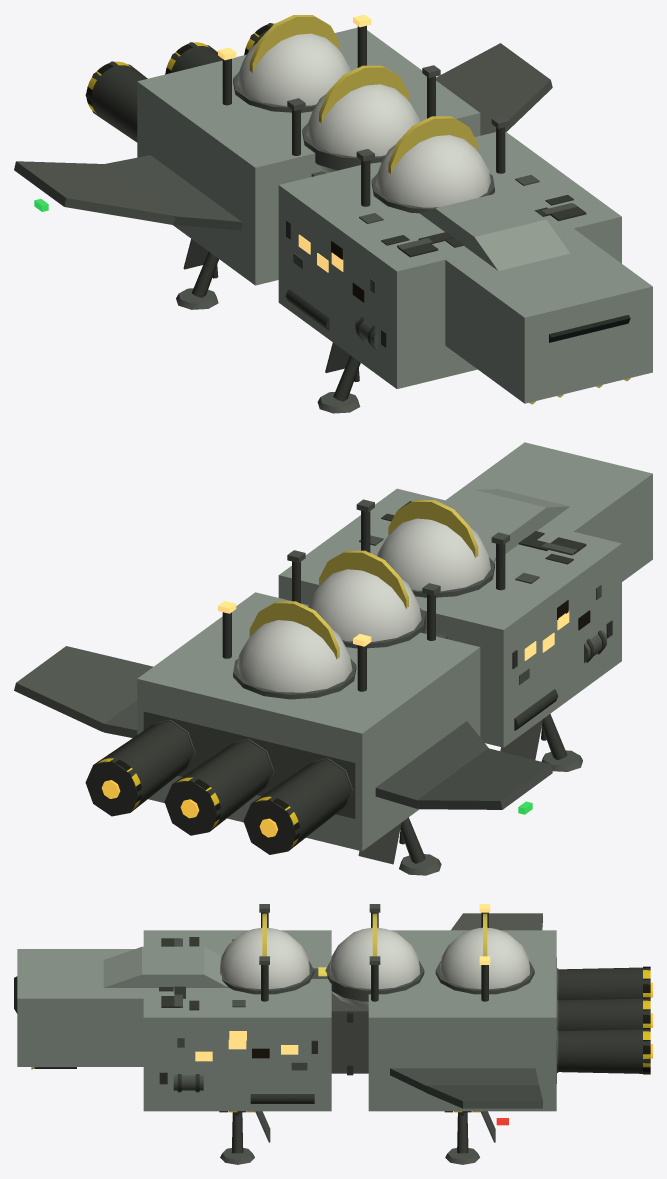
The model's file is h2_freighter-m.glb.
3 views of the same model, one above another, from view 1: azimuth 30°, elevation 25°; view 2: azimuth 150°, elevation 25°; view 3: azimuth 270°, elevation 25° (orthographic). The views are drawn at different scales.
Visible parts, largest first — view 1: hullMain, hullNose, hullSection1, canopyFairing, pressureTank0, pressureTank1, pressureTank2, wingOuterRight, wingOuterLeft, wingInnerLeft, engineHousing (×2), tankBand0 (+9 smaller); view 2: hullSection1, hullMain, engineHousing (×3), hullNose, wingOuterRight, pressureTank2, pressureTank0, pressureTank1, wingOuterLeft, canopyFairing, engineBayExtension, wingInnerLeft (+8 smaller); view 3: hullMain, hullSection1, hullNose, engineHousing (×3), canopyFairing, pressureTank1, pressureTank2, pressureTank0, gantry0, wingInnerRight, wingOuterRight, wingOuterLeft (+7 smaller).
Boxes of the visible parts, <box> form: hullMain: <box>278,131,621,388</box>; hullNose: <box>438,228,652,403</box>; hullSection1: <box>137,27,480,285</box>; canopyFairing: <box>420,191,569,270</box>; pressureTank0: <box>375,135,490,207</box>; pressureTank1: <box>306,84,419,172</box>; pressureTank2: <box>237,33,350,106</box>; wingOuterRight: <box>436,43,552,135</box>; wingOuterLeft: <box>14,161,174,224</box>; wingInnerLeft: <box>104,155,241,230</box>; engineHousing (×2): <box>85,42,222,142</box>; tankBand0: <box>388,116,478,174</box>; hullSection1: <box>137,592,480,851</box>; hullMain: <box>278,488,621,747</box>; engineHousing (×3): <box>85,721,351,854</box>; hullNose: <box>442,442,652,581</box>; wingOuterRight: <box>14,646,153,731</box>; pressureTank2: <box>237,620,352,692</box>; pressureTank0: <box>377,518,490,591</box>; pressureTank1: <box>308,569,421,641</box>; wingOuterLeft: <box>416,748,552,809</box>; canopyFairing: <box>451,489,569,562</box>; engineBayExtension: <box>143,711,355,818</box>; wingInnerLeft: <box>375,721,488,808</box>; hullMain: <box>143,930,331,1111</box>; hullSection1: <box>368,930,556,1111</box>; hullNose: <box>17,949,154,1066</box>; engineHousing (×3): <box>558,967,650,1073</box>; canopyFairing: <box>103,946,228,987</box>; pressureTank1: <box>330,927,419,1006</box>; pressureTank2: <box>440,927,529,989</box>; pressureTank0: <box>220,927,309,989</box>; gantry0: <box>331,992,368,1073</box>; wingInnerRight: <box>390,1068,538,1092</box>; wingOuterRight: <box>426,1085,542,1108</box>; wingOuterLeft: <box>451,913,542,930</box>.
Bounding box in the file's own units: 5.89 × 2.84 × 8.35.
